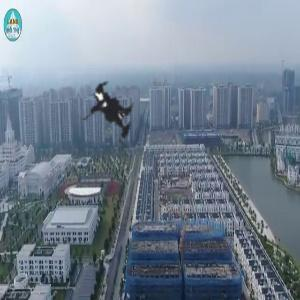drone: (8, 6, 208, 206)
